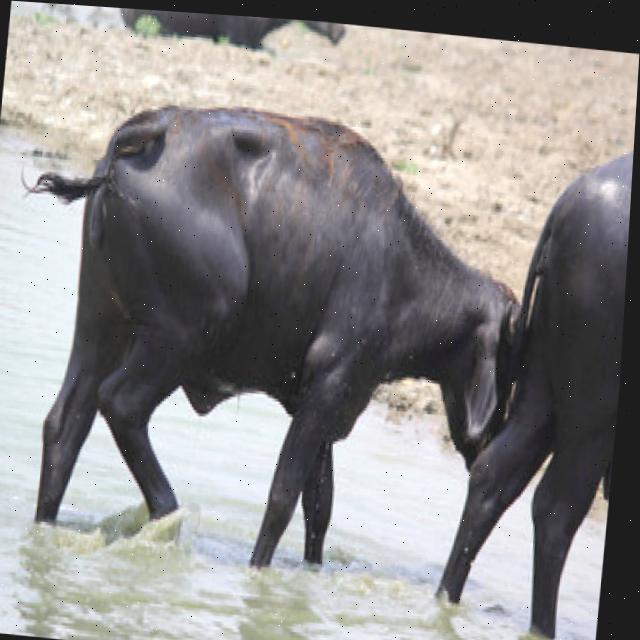Buffalo: (2, 85, 541, 585)
